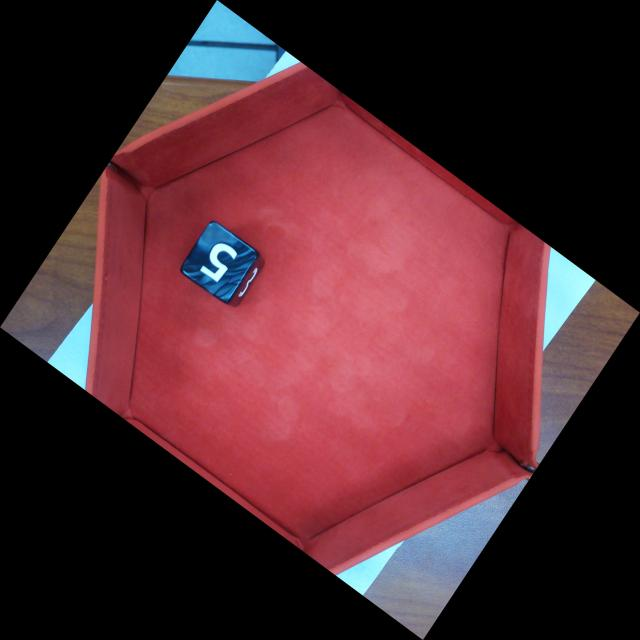dice: (178, 219, 262, 303)
